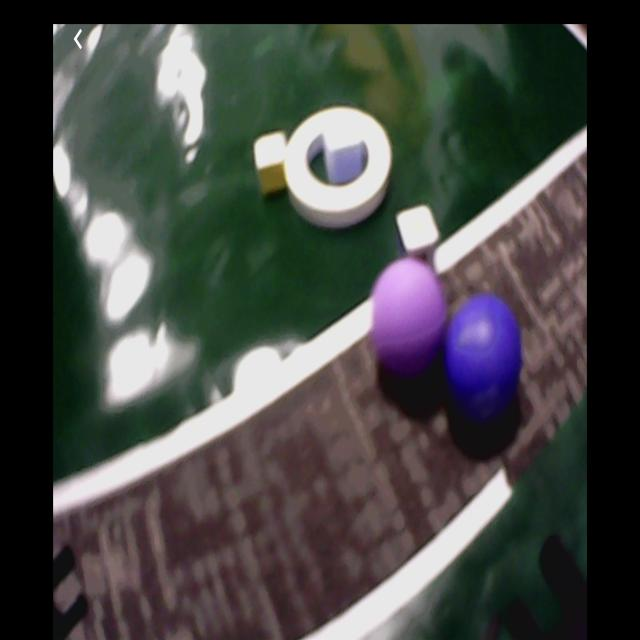ball: (372, 260, 448, 381), (449, 292, 523, 413)
